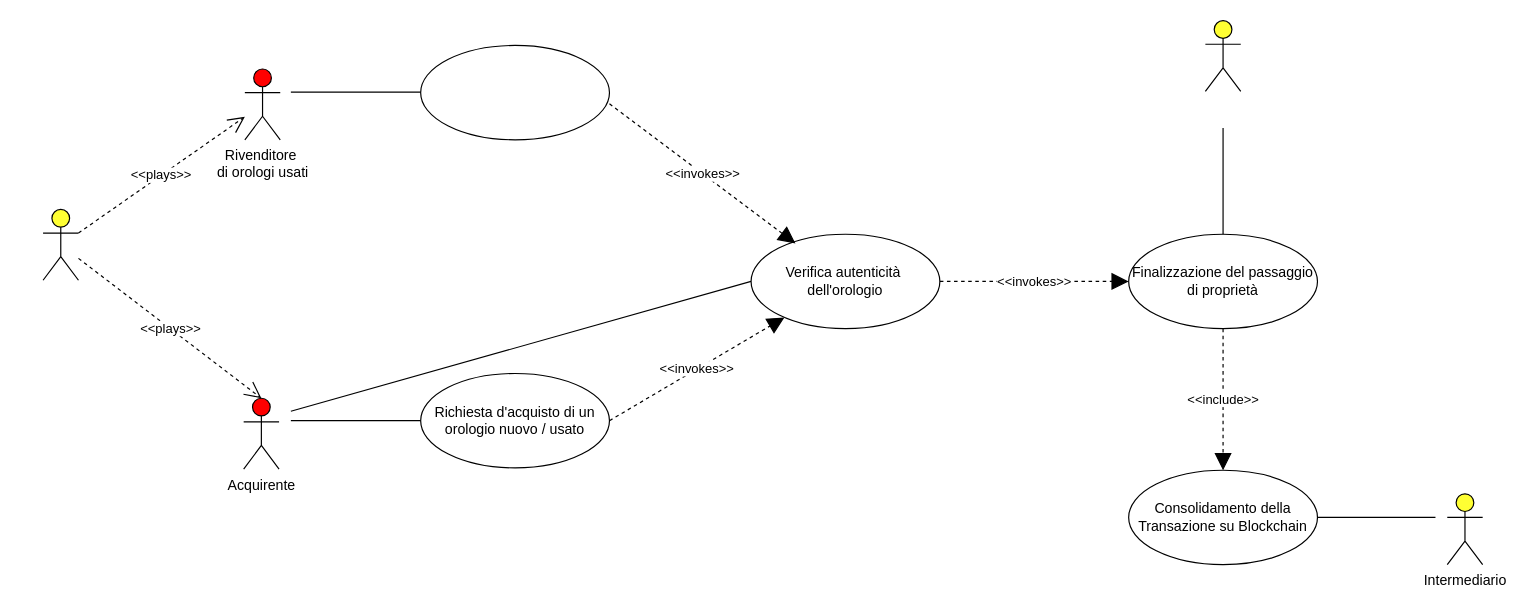
Image size: 1527x610. Some labels were removed from this diagram. The centre of each missing label's shape, as x and y in pixels:
"Cliente finale" belongs at point 60,244.
"Proposta di vendita per un orologio usato" belongs at point 514,92.
"Venditore" belongs at point 1222,55.
